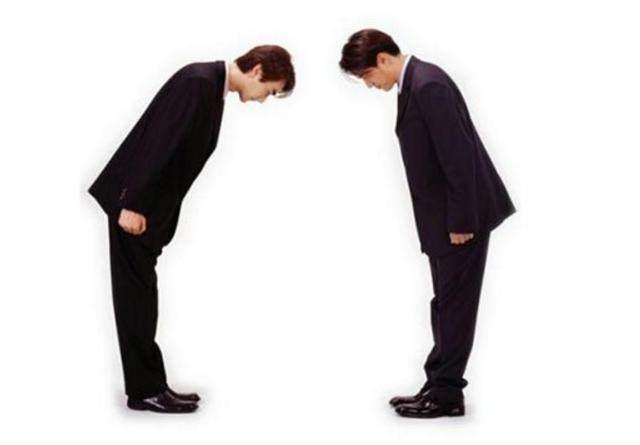bending: (86, 44, 301, 422), (323, 27, 507, 429)
